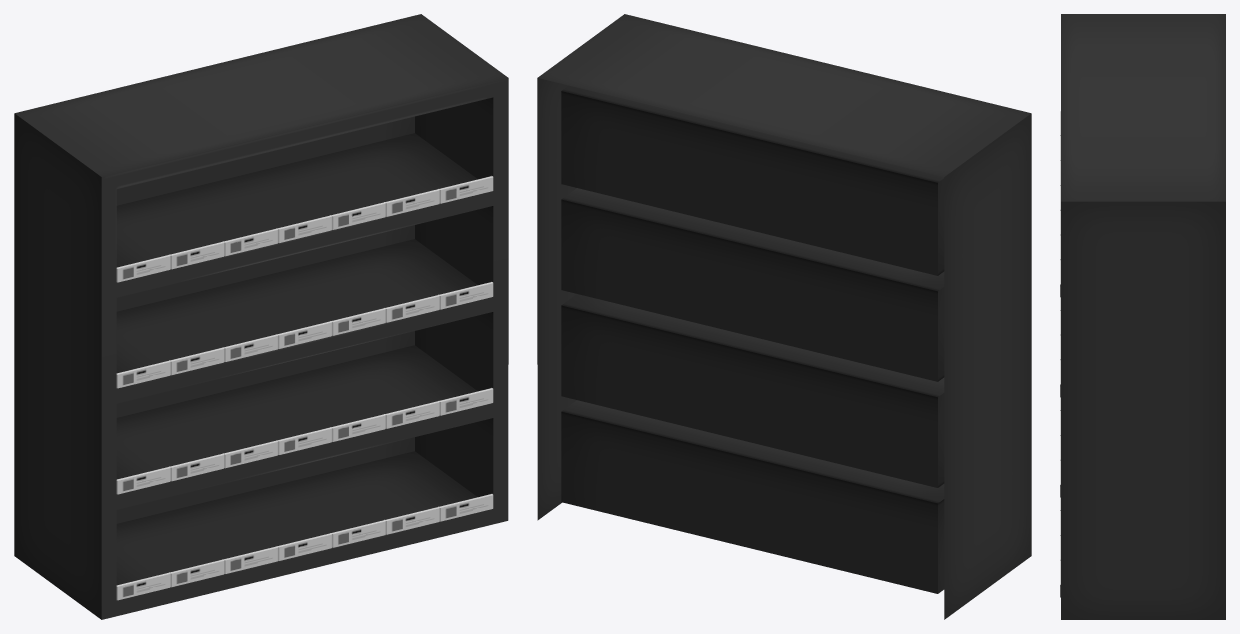
The model's file is cigarette_stand.FBX.
3 renders of one model, left to right at view 1: azimuth 30°, elevation 25°; view 2: azimuth 150°, elevation 25°; view 3: azimuth 270°, elevation 25°, orthographic. The views are drawn at different scales.
Visible parts, largest first — view 1: cigarette_stand2; view 2: cigarette_stand2; view 3: cigarette_stand2.
Part boxes in pixels (left/top/right/bottom): cigarette_stand2: left=14, top=14, right=508, bottom=619; cigarette_stand2: left=537, top=14, right=1031, bottom=619; cigarette_stand2: left=1060, top=14, right=1225, bottom=619.
Bounding box in the file's own units: 67.3 × 70 × 25.13.
